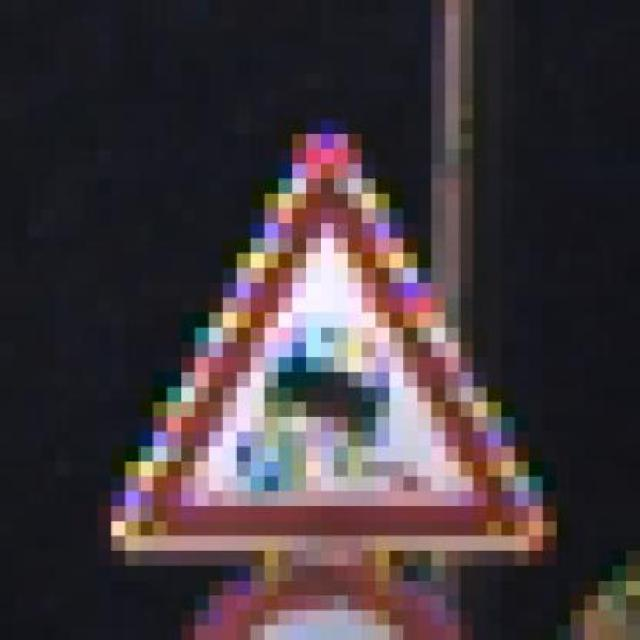Slippery Road Ahead: (83, 104, 557, 565)
